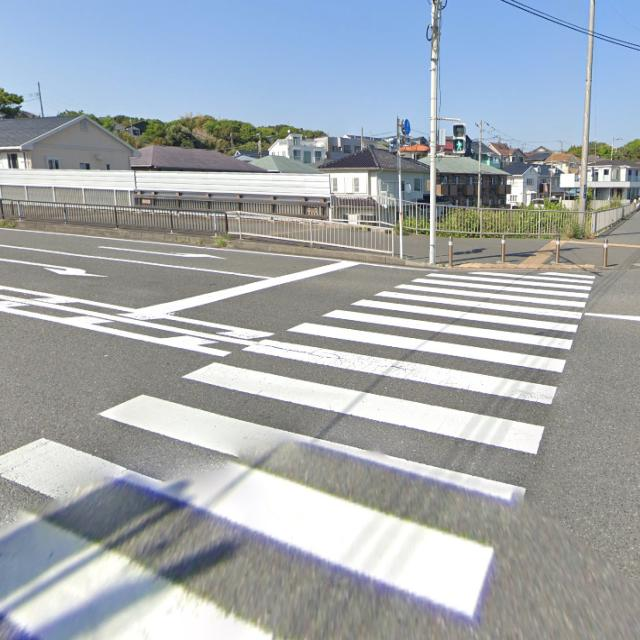traffic-light: (451, 119, 466, 154)
